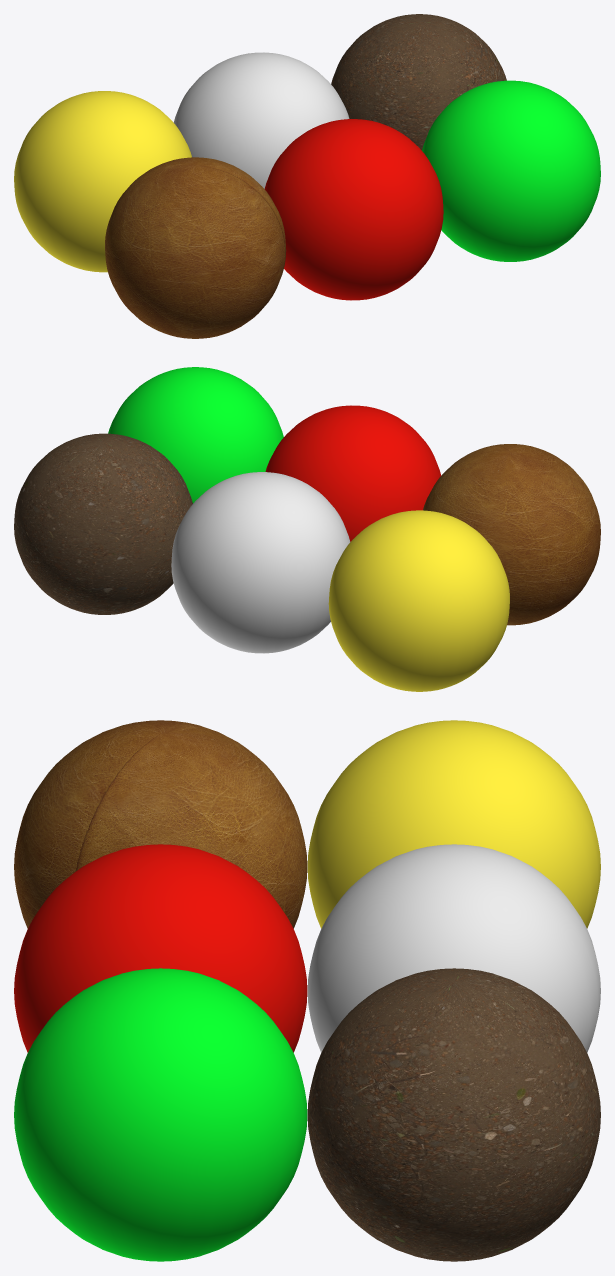
The picture shows the model from 3 angles, top to bottom: view 1: azimuth 30°, elevation 25°; view 2: azimuth 150°, elevation 25°; view 3: azimuth 270°, elevation 25°; orthographic projection. The views are drawn at different scales.
Parts seen in each view (by area): view 1: Sphere.003, Sphere, Sphere.005, Sphere.007, Sphere.006, Sphere.004; view 2: Sphere.007, Sphere.006, Sphere.004, Sphere.003, Sphere, Sphere.005; view 3: Sphere.004, Sphere.005, Sphere, Sphere.006, Sphere.003, Sphere.007.
Part boxes in pixels (<box>): Sphere.003: <box>105,157,286,338</box>; Sphere: <box>264,119,443,300</box>; Sphere.005: <box>422,80,600,261</box>; Sphere.007: <box>14,91,191,272</box>; Sphere.006: <box>173,52,349,188</box>; Sphere.004: <box>331,14,506,150</box>; Sphere.007: <box>328,510,509,691</box>; Sphere.006: <box>171,472,350,653</box>; Sphere.004: <box>14,433,192,614</box>; Sphere.003: <box>423,444,600,625</box>; Sphere: <box>265,405,441,541</box>; Sphere.005: <box>108,367,283,503</box>; Sphere.004: <box>307,968,600,1261</box>; Sphere.005: <box>14,968,307,1261</box>; Sphere: <box>14,844,307,1052</box>; Sphere.006: <box>307,844,600,1052</box>; Sphere.003: <box>14,720,307,928</box>; Sphere.007: <box>307,720,600,928</box>.
Size of the model in its own units: 6 by 2 by 4.
6 materials, 2 textured.
